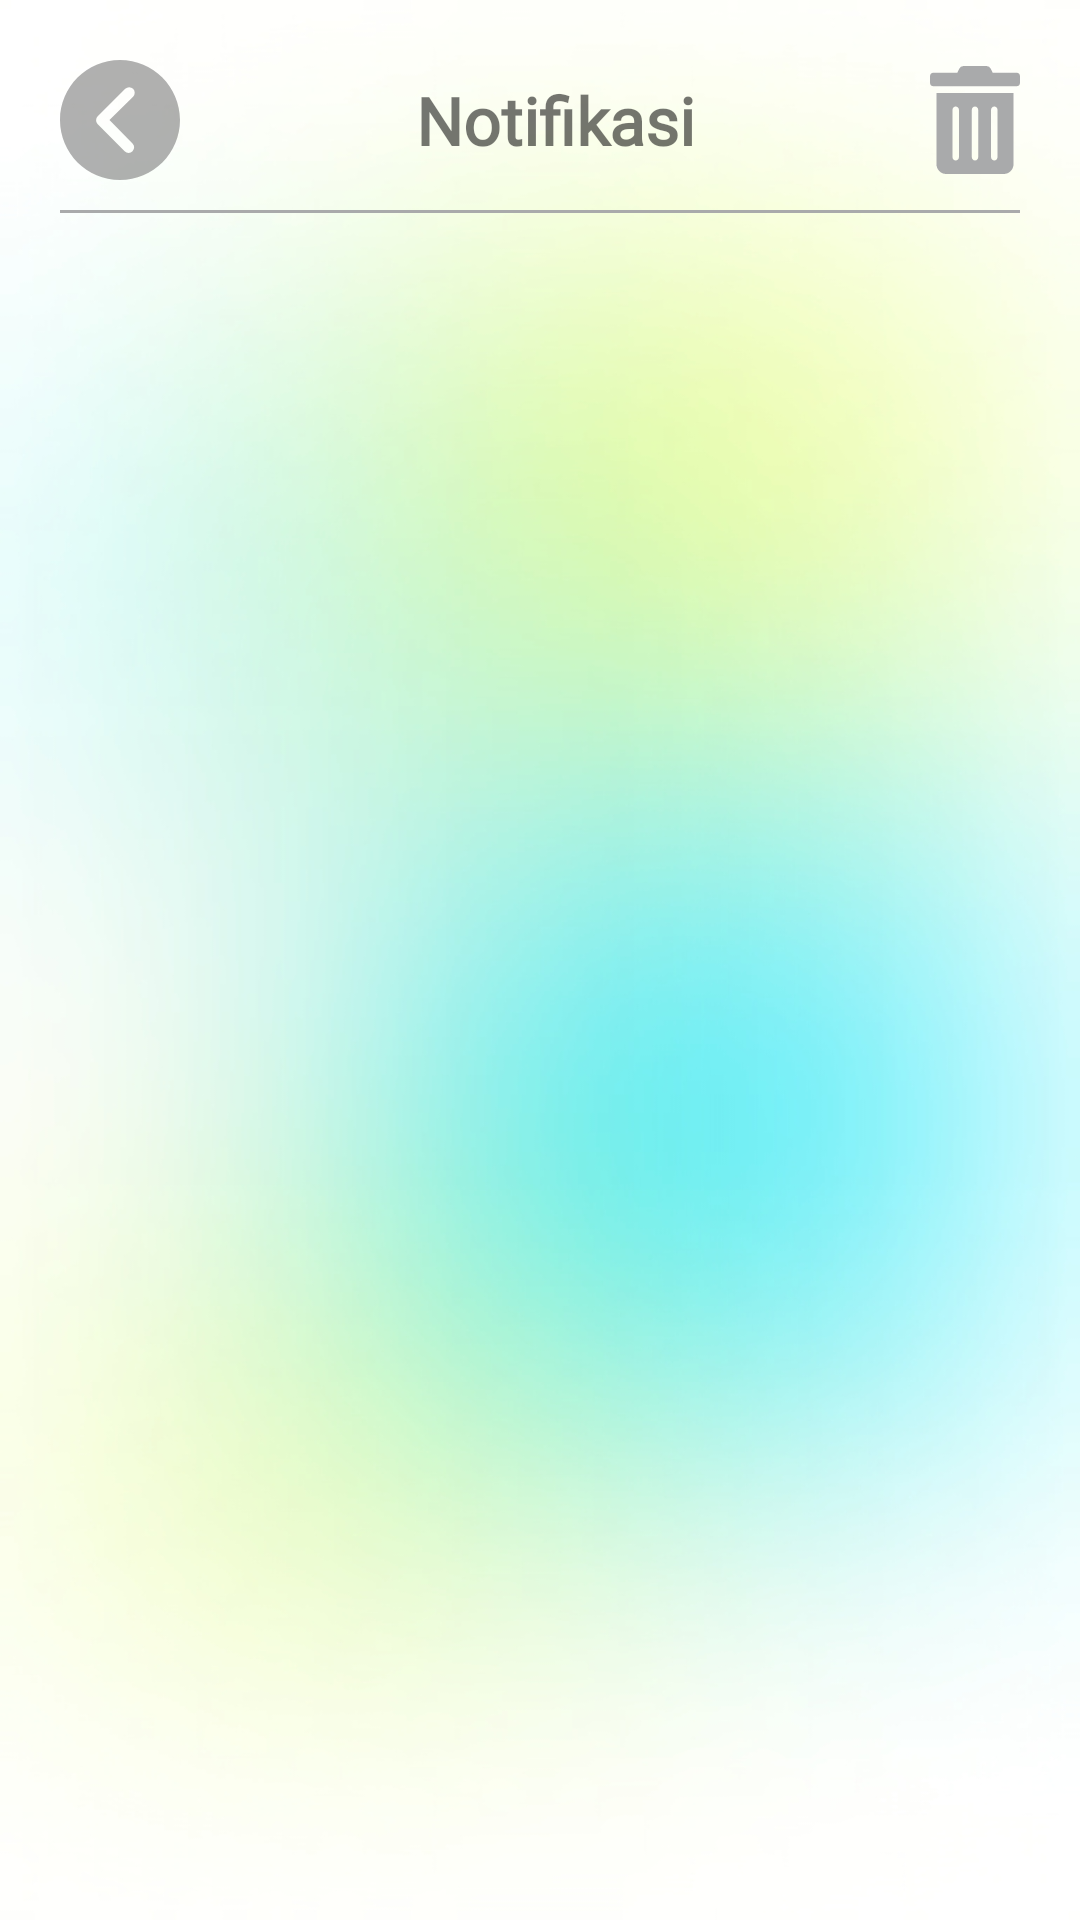

Where icons sit on this 1080 × 1920 app screen, as bbox=(x1, y1, x2, y2):
awesome trash: bbox=(930, 66, 1020, 174)
ionic arrow dropleft circle: bbox=(60, 60, 180, 180)
